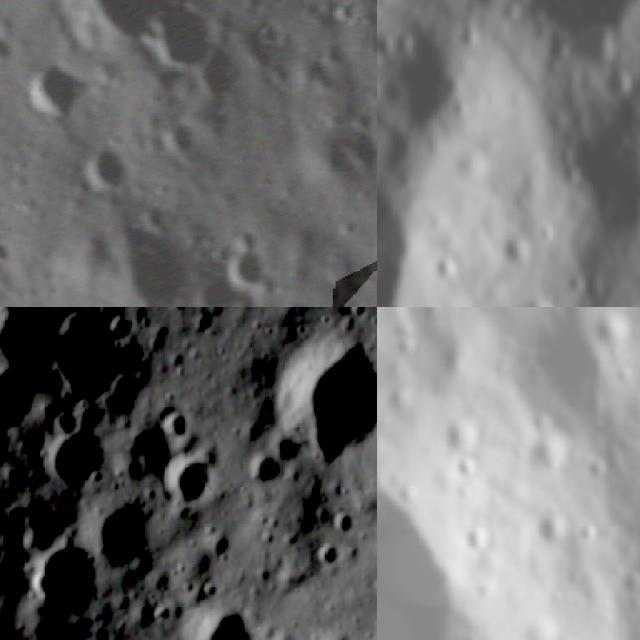crater: (377, 436, 481, 640), (443, 0, 640, 107), (377, 95, 474, 307), (270, 316, 377, 472), (107, 217, 204, 307), (26, 531, 106, 623), (84, 489, 160, 583), (40, 421, 117, 506), (162, 444, 230, 524), (0, 357, 58, 437), (84, 0, 207, 36), (152, 6, 218, 72), (26, 58, 90, 120), (76, 141, 138, 202), (216, 233, 277, 289), (584, 56, 640, 117), (520, 428, 574, 488), (184, 602, 261, 640), (488, 219, 538, 275), (152, 403, 202, 447), (248, 447, 286, 503), (240, 17, 282, 66), (535, 503, 573, 557), (592, 310, 635, 355), (497, 278, 562, 307), (377, 18, 406, 74)
